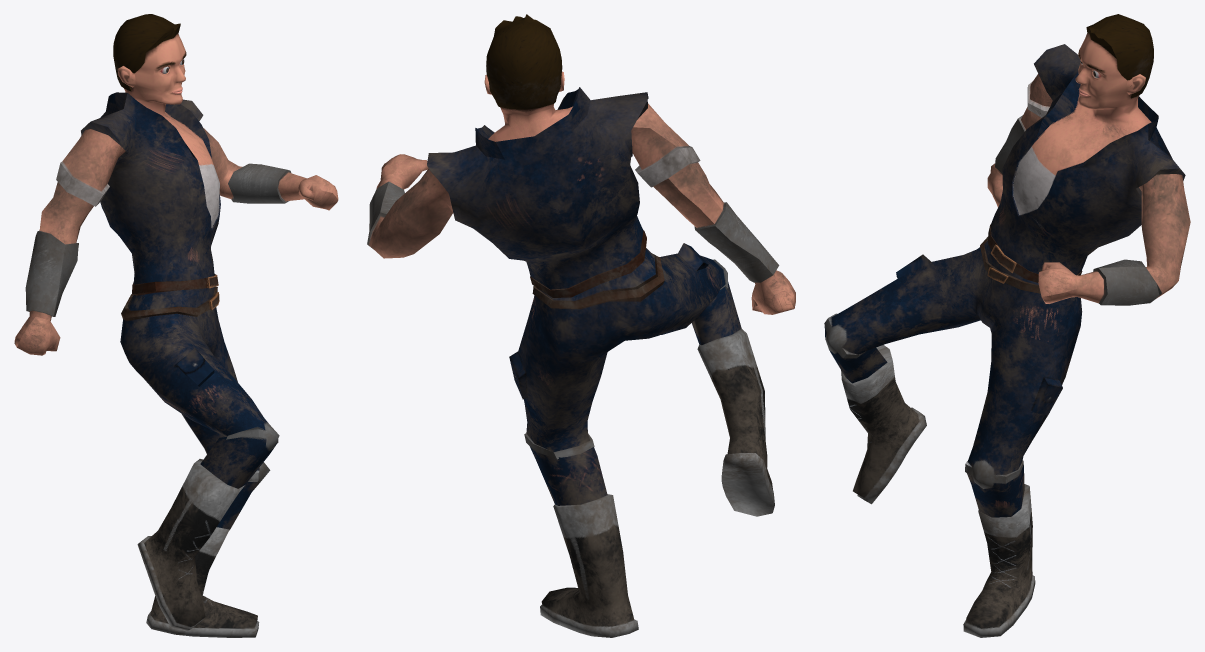
Rendered from Anim_ataque_f2_jugador.0015.obj.
The picture shows the model from 3 angles, left to right: view 1: azimuth 30°, elevation 25°; view 2: azimuth 150°, elevation 25°; view 3: azimuth 270°, elevation 25°; orthographic projection. The views are drawn at different scales.
Visible parts, largest first — view 1: polySurface1; view 2: polySurface1; view 3: polySurface1.
Part boxes in pixels (left/top/right/bottom): polySurface1: left=14, top=14, right=338, bottom=637; polySurface1: left=367, top=14, right=795, bottom=637; polySurface1: left=824, top=14, right=1190, bottom=637.
Size of the model in its own units: 5.73 by 9.22 by 5.13.
